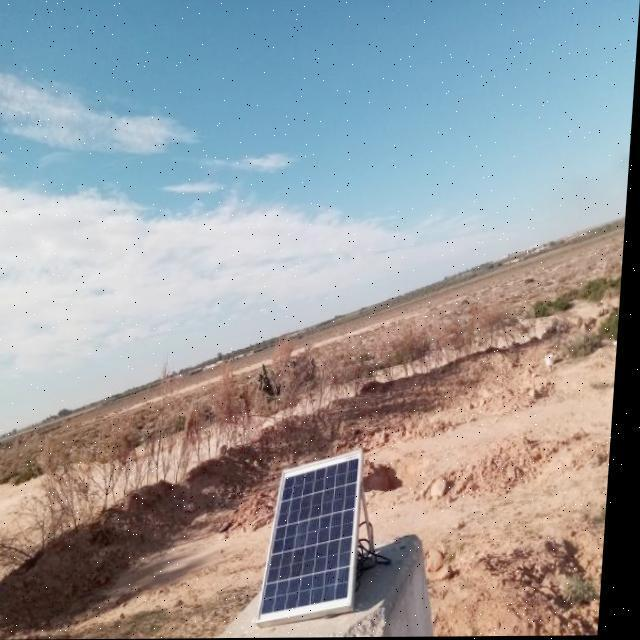Normal Solar Panel: (266, 452, 368, 623)
